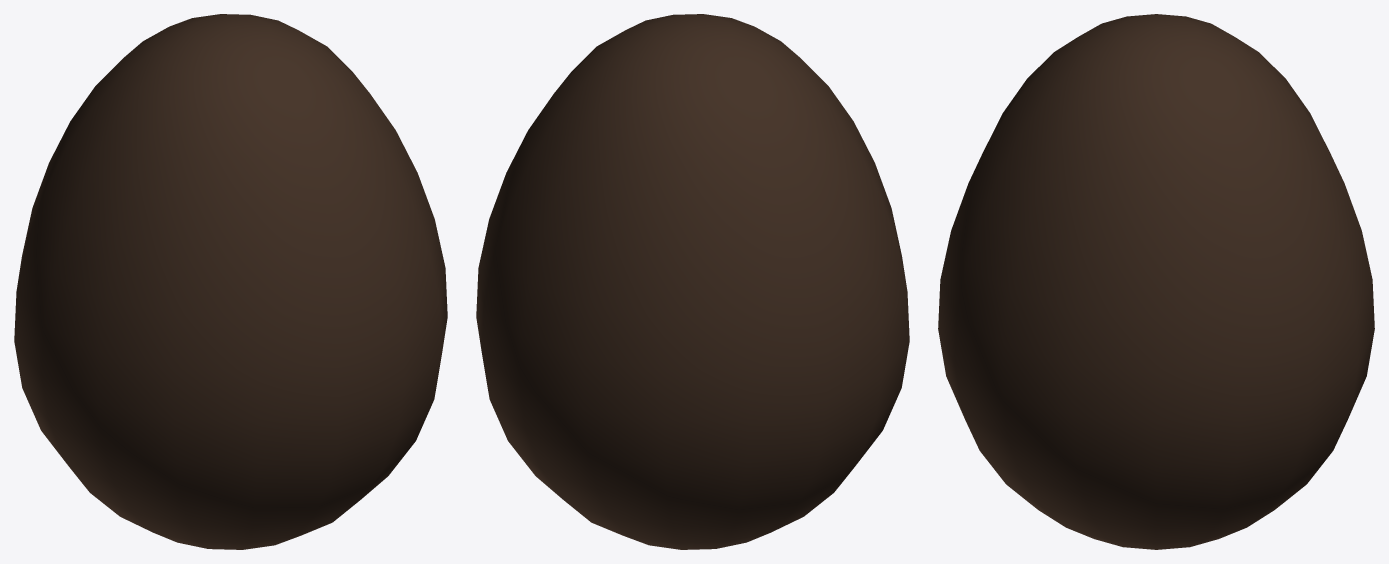
The model's file is Coconut.fbx.
The picture shows the model from 3 angles, left to right: view 1: azimuth 30°, elevation 25°; view 2: azimuth 150°, elevation 25°; view 3: azimuth 270°, elevation 25°; orthographic projection.
Visible parts, largest first — view 1: Coconut; view 2: Coconut; view 3: Coconut.
Boxes of the visible parts, <box> form: Coconut: <box>14,14,447,549</box>; Coconut: <box>476,14,909,549</box>; Coconut: <box>938,14,1374,549</box>.
Bounding box in the file's own units: 16.83 × 21.44 × 16.83.
